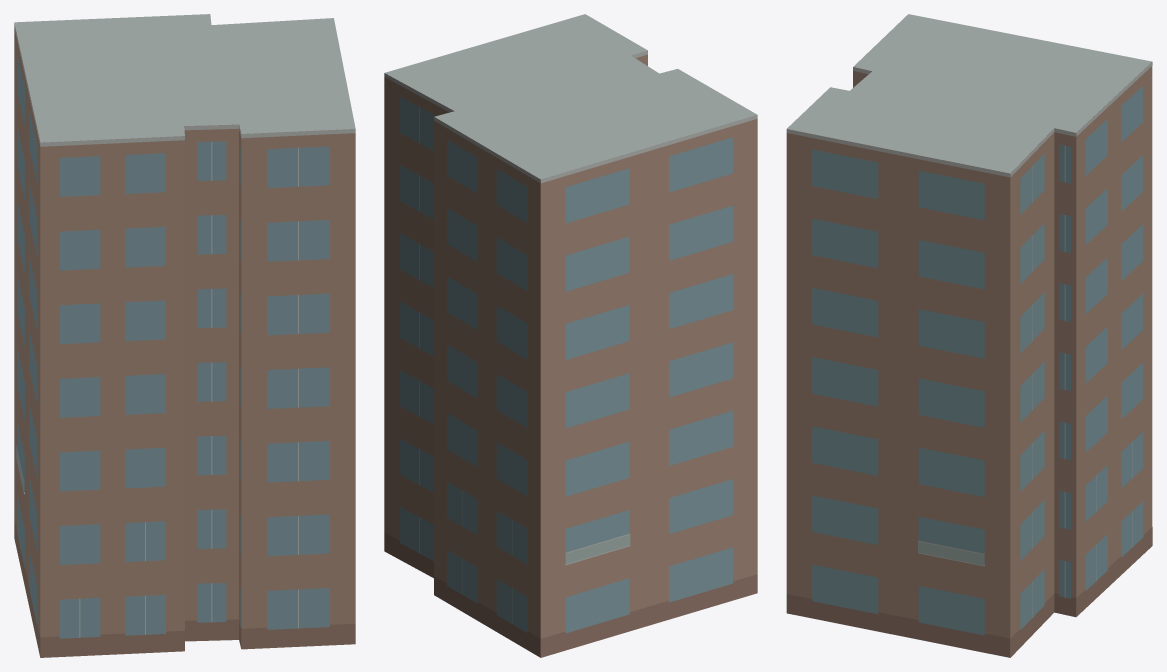
File: survey-upis-32715492.glb
3 renders of one model, left to right at view 1: azimuth 30°, elevation 25°; view 2: azimuth 150°, elevation 25°; view 3: azimuth 270°, elevation 25°, orthographic. The views are drawn at different scales.
Parts seen in each view (by area): view 1: survey-upis-32715492.tmp; view 2: survey-upis-32715492.tmp; view 3: survey-upis-32715492.tmp.
Part boxes in pixels (x1,y1,x2,y2): survey-upis-32715492.tmp: (14,14,355,657); survey-upis-32715492.tmp: (384,14,757,657); survey-upis-32715492.tmp: (786,14,1152,657).
Bounding box in the file's own units: 21.06 × 29.8 × 20.41.
